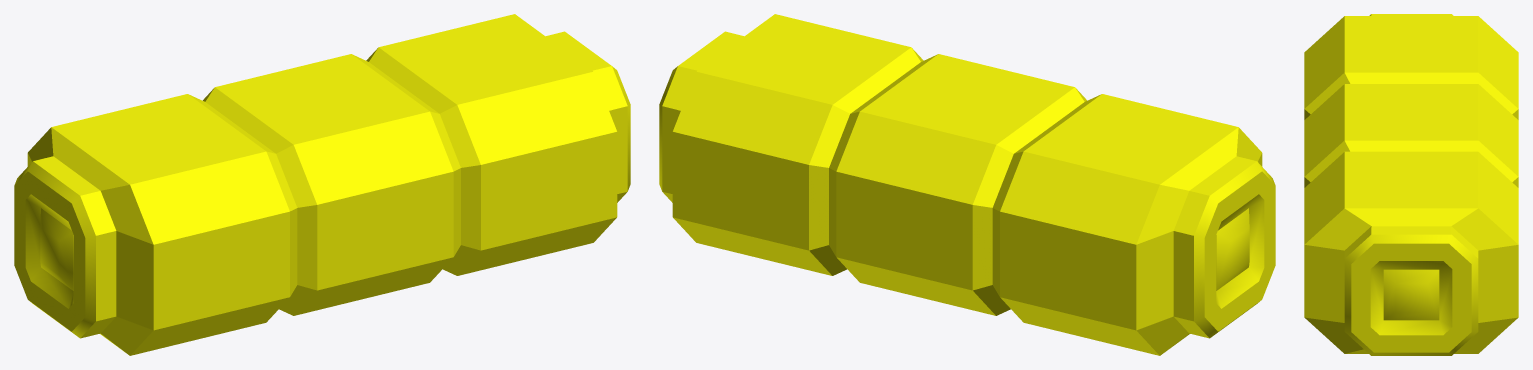
The model's file is kaykit-tunnel-straight-b.glb.
The picture shows the model from 3 angles, left to right: view 1: azimuth 30°, elevation 25°; view 2: azimuth 150°, elevation 25°; view 3: azimuth 270°, elevation 25°; orthographic projection. The views are drawn at different scales.
Parts seen in each view (by area): view 1: tunnel_straight_B; view 2: tunnel_straight_B; view 3: tunnel_straight_B.
Boxes of the visible parts, x1=… form: tunnel_straight_B: x1=14, y1=14, x2=630, y2=355; tunnel_straight_B: x1=659, y1=14, x2=1275, y2=355; tunnel_straight_B: x1=1304, y1=14, x2=1518, y2=355.
Bounding box in the file's own units: 2 × 0.5999 × 0.7999.
